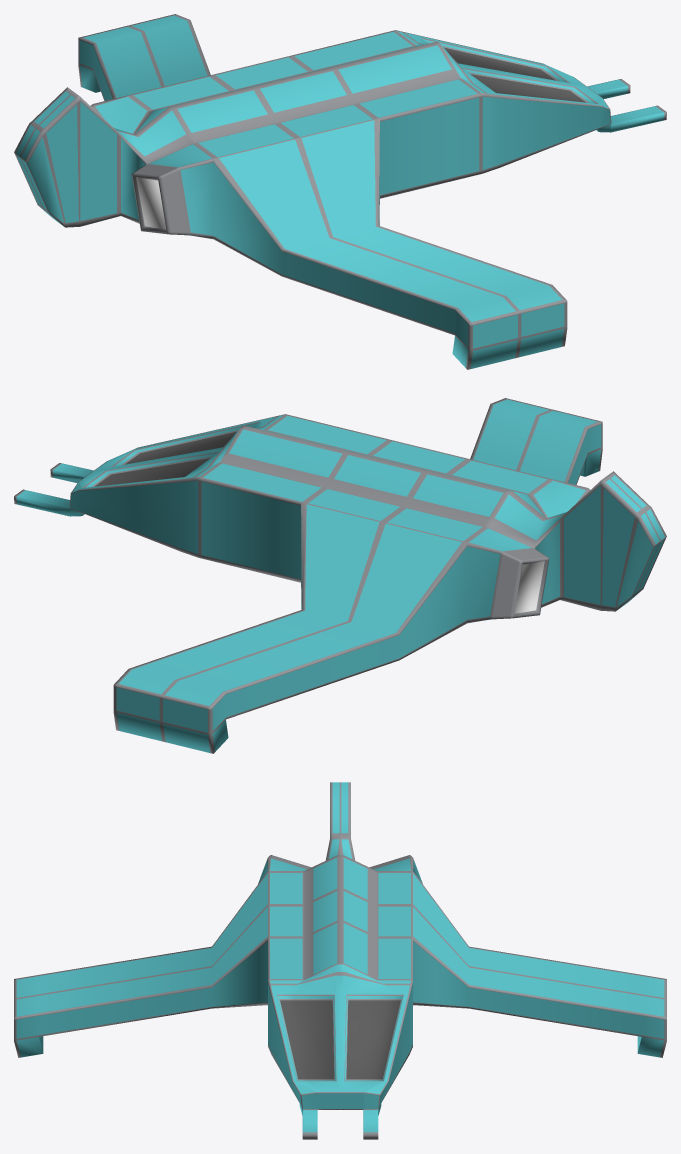
The model's file is Ship01.fbx.
The picture shows the model from 3 angles, top to bottom: view 1: azimuth 30°, elevation 25°; view 2: azimuth 150°, elevation 25°; view 3: azimuth 270°, elevation 25°; orthographic projection. The views are drawn at different scales.
Parts seen in each view (by area): view 1: Cube; view 2: Cube; view 3: Cube.
Part boxes in pixels (x1,y1,x2,y2): Cube: [14, 14, 666, 369]; Cube: [14, 398, 666, 753]; Cube: [14, 782, 666, 1139].
Size of the model in its own units: 828 by 235 by 901.
